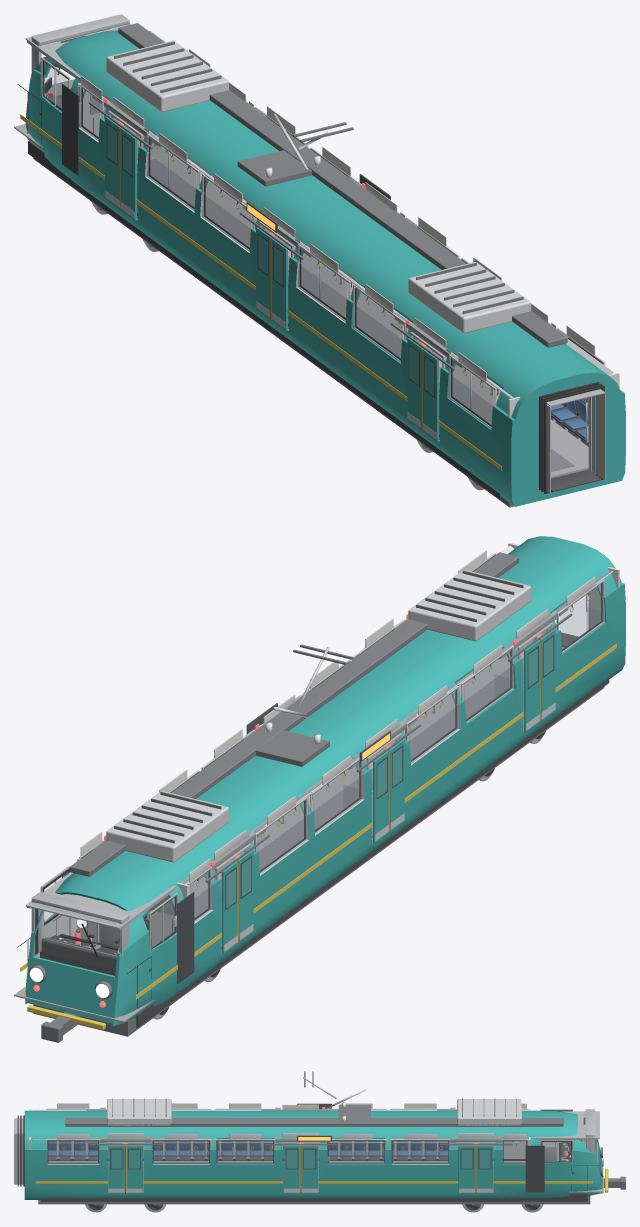
The model's file is t400_front.glb.
The picture shows the model from 3 angles, top to bottom: view 1: azimuth 30°, elevation 25°; view 2: azimuth 150°, elevation 25°; view 3: azimuth 270°, elevation 25°; orthographic projection. The views are drawn at different scales.
Visible parts, largest first — view 1: T400_Front_Shell, Static_MetalDark, Static_Metal, Static_Floor, Static_PlasticGrey, Static_FloorDark_FloorAisle, Static_PaintDark, StaticNC_PlasticWhite, Static_Rubber, Glass_2, Glass_4, Glass_1 (+13 smaller); view 2: T400_Front_Shell, Static_MetalDark, Static_Metal, Static_PlasticGrey, Static_PaintDark, Static_FloorDark_FloorAisle, Static_Floor, StaticNC_PlasticWhite, Static_Rubber, Static_Accent, Glass_4, Glass_1 (+13 smaller); view 3: T400_Front_Shell, Static_MetalDark, Static_Metal, Static_PaintDark, Static_Seat, Static_Rubber, Static_WallPanel, StaticNC_PlasticWhite, Static_PlasticGrey, Static_Accent, Glass_10, Glass_7 (+19 smaller).
Boxes of the visible parts, x1=… form: T400_Front_Shell: x1=25, y1=30, x2=625, y2=506; Static_MetalDark: x1=33, y1=23, x2=592, y2=507; Static_Metal: x1=54, y1=40, x2=604, y2=490; Static_Floor: x1=14, y1=124, x2=588, y2=477; Static_PlasticGrey: x1=25, y1=14, x2=605, y2=493; Static_FloorDark_FloorAisle: x1=137, y1=159, x2=574, y2=471; Static_PaintDark: x1=28, y1=84, x2=500, y2=498; StaticNC_PlasticWhite: x1=80, y1=49, x2=595, y2=381; Static_Rubber: x1=17, y1=60, x2=604, y2=493; Glass_2: x1=297, y1=246, x2=347, y2=321; Glass_4: x1=146, y1=135, x2=196, y2=211; Glass_1: x1=352, y1=287, x2=402, y2=362; T400_Front_Shell: x1=25, y1=536, x2=625, y2=1026; Static_MetalDark: x1=29, y1=552, x2=604, y2=1042; Static_Metal: x1=54, y1=553, x2=604, y2=1019; Static_PlasticGrey: x1=25, y1=591, x2=591, y2=956; Static_PaintDark: x1=62, y1=678, x2=609, y2=1027; Static_FloorDark_FloorAisle: x1=194, y1=657, x2=523, y2=918; Static_Floor: x1=14, y1=640, x2=563, y2=1022; StaticNC_PlasticWhite: x1=80, y1=550, x2=595, y2=882; Static_Rubber: x1=17, y1=554, x2=604, y2=1008; Static_Accent: x1=20, y1=643, x2=616, y2=1029; Glass_4: x1=257, y1=799, x2=308, y2=874; Glass_1: x1=464, y1=647, x2=514, y2=722; T400_Front_Shell: x1=24, y1=1110, x2=602, y2=1199; Static_MetalDark: x1=38, y1=1071, x2=625, y2=1210; Static_Metal: x1=46, y1=1077, x2=570, y2=1212; Static_PaintDark: x1=41, y1=1145, x2=587, y2=1201; Static_Seat: x1=48, y1=1141, x2=448, y2=1155; Static_Rubber: x1=17, y1=1110, x2=599, y2=1189; Static_WallPanel: x1=33, y1=1109, x2=529, y2=1190; StaticNC_PlasticWhite: x1=57, y1=1103, x2=526, y2=1139; Static_PlasticGrey: x1=14, y1=1109, x2=599, y2=1184; Static_Accent: x1=35, y1=1161, x2=608, y2=1192; Glass_10: x1=391, y1=1140, x2=449, y2=1163; Glass_7: x1=152, y1=1140, x2=210, y2=1163.
Bounding box in the file's own units: 2.96 × 5.2 × 22.72.
